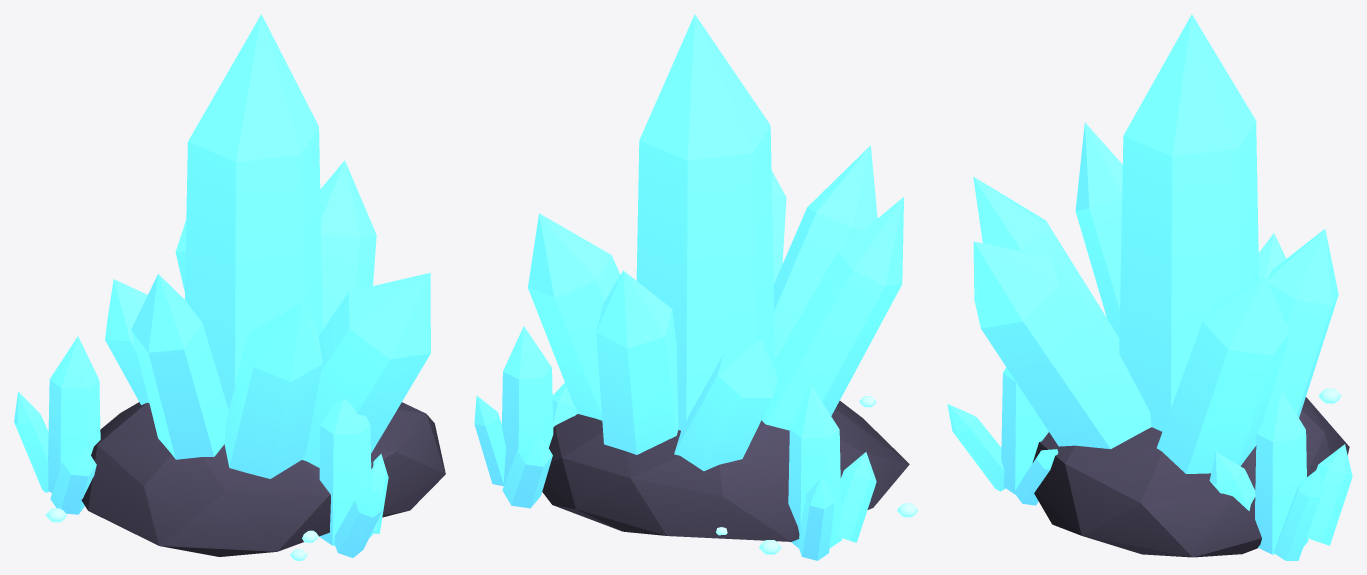
The model's file is crystals_blue.glb.
3 views of the same model, side by side, from view 1: azimuth 30°, elevation 25°; view 2: azimuth 150°, elevation 25°; view 3: azimuth 270°, elevation 25° (orthographic).
Parts seen in each view (by area): view 1: t0_crystal, t0_rock, t0_glow_teal; view 2: t0_crystal, t0_rock, t0_glow_teal; view 3: t0_crystal, t0_rock.
Boxes of the visible parts, x1,y1,x2,y2 form: t0_crystal: [14, 14, 430, 557]; t0_rock: [81, 402, 445, 556]; t0_glow_teal: [45, 508, 318, 560]; t0_crystal: [474, 14, 903, 560]; t0_rock: [542, 401, 909, 541]; t0_glow_teal: [716, 396, 918, 554]; t0_crystal: [947, 14, 1352, 560]; t0_rock: [1032, 397, 1349, 557].
Size of the model in its own units: 1.83 by 2.16 by 1.63.
